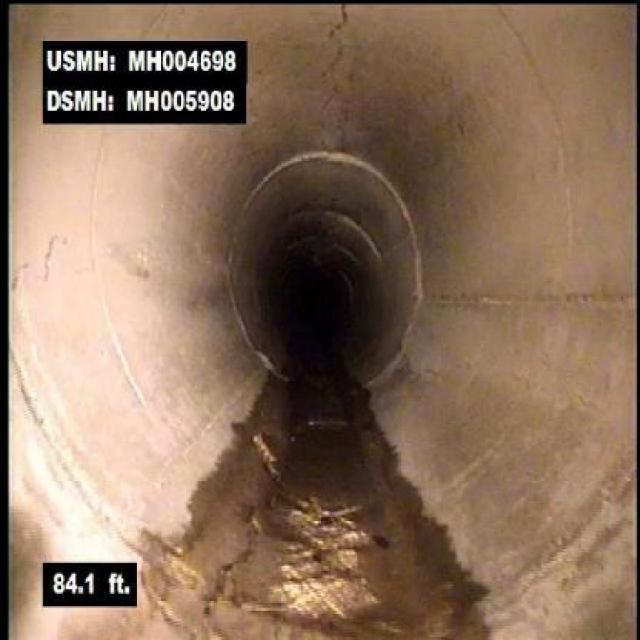Crack: (199, 502, 263, 620), (12, 231, 77, 289), (326, 5, 354, 90)
